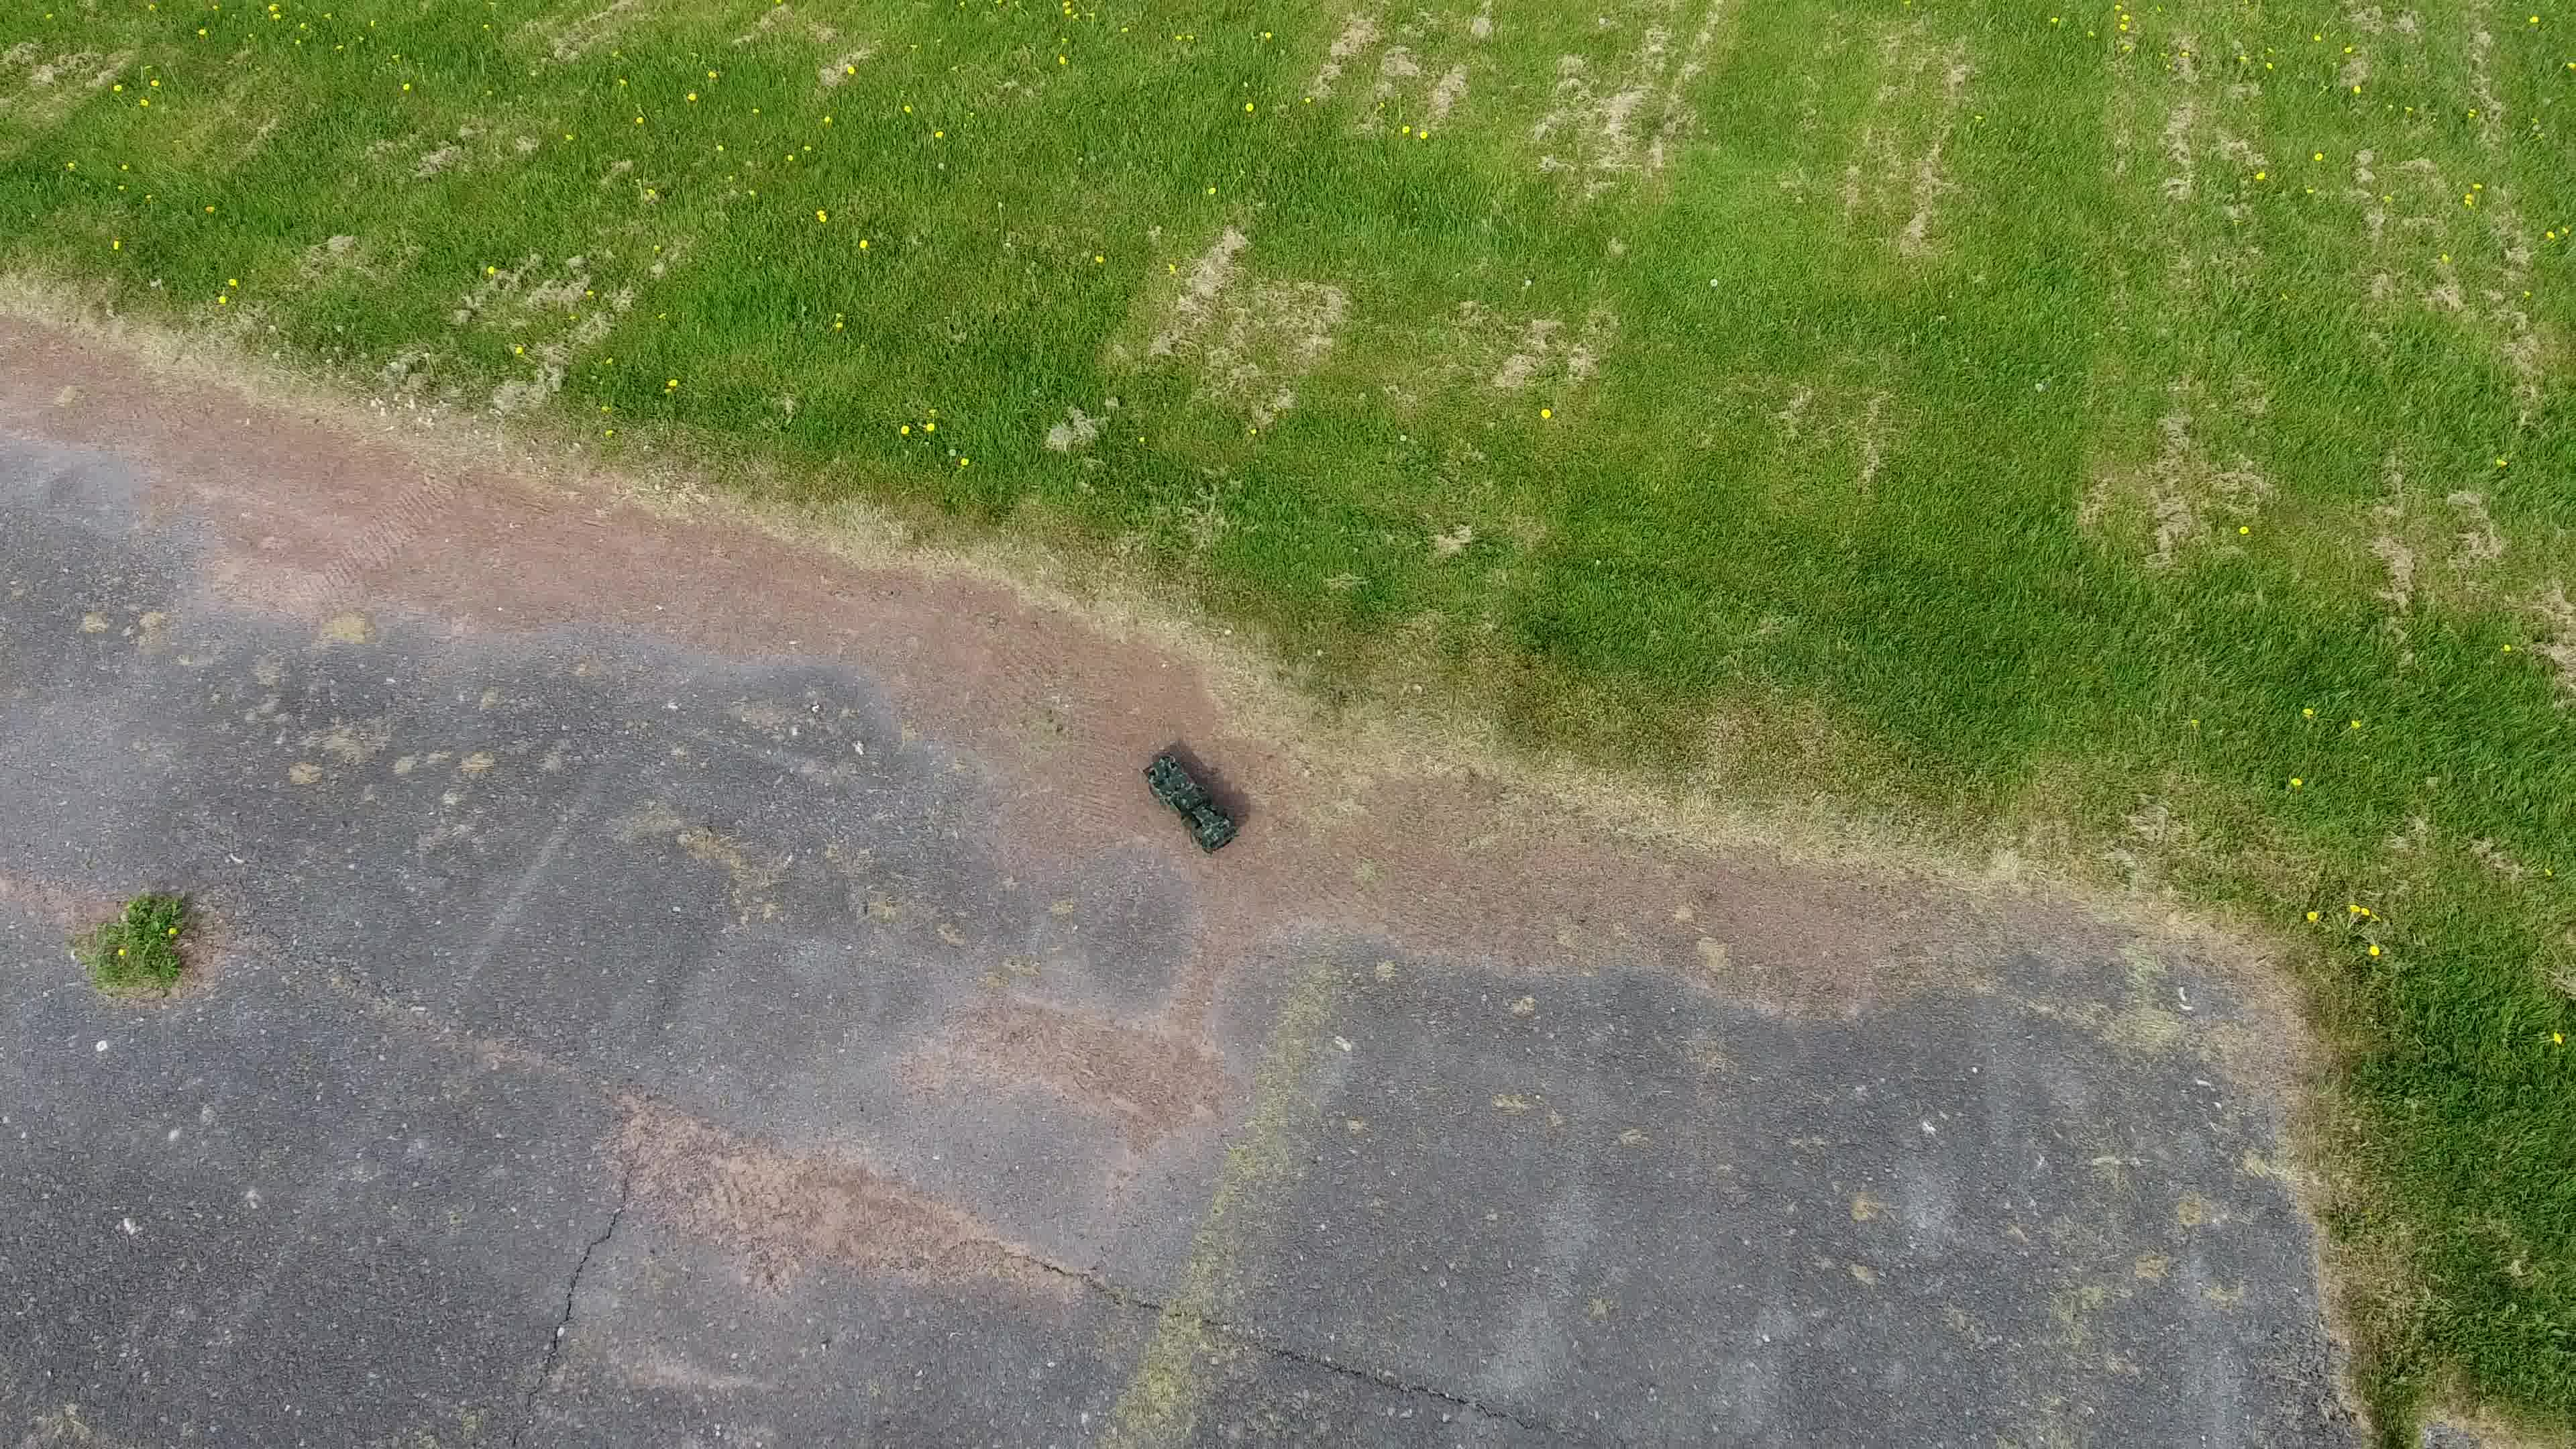transporter9_camo: (1139, 747, 1242, 858)
